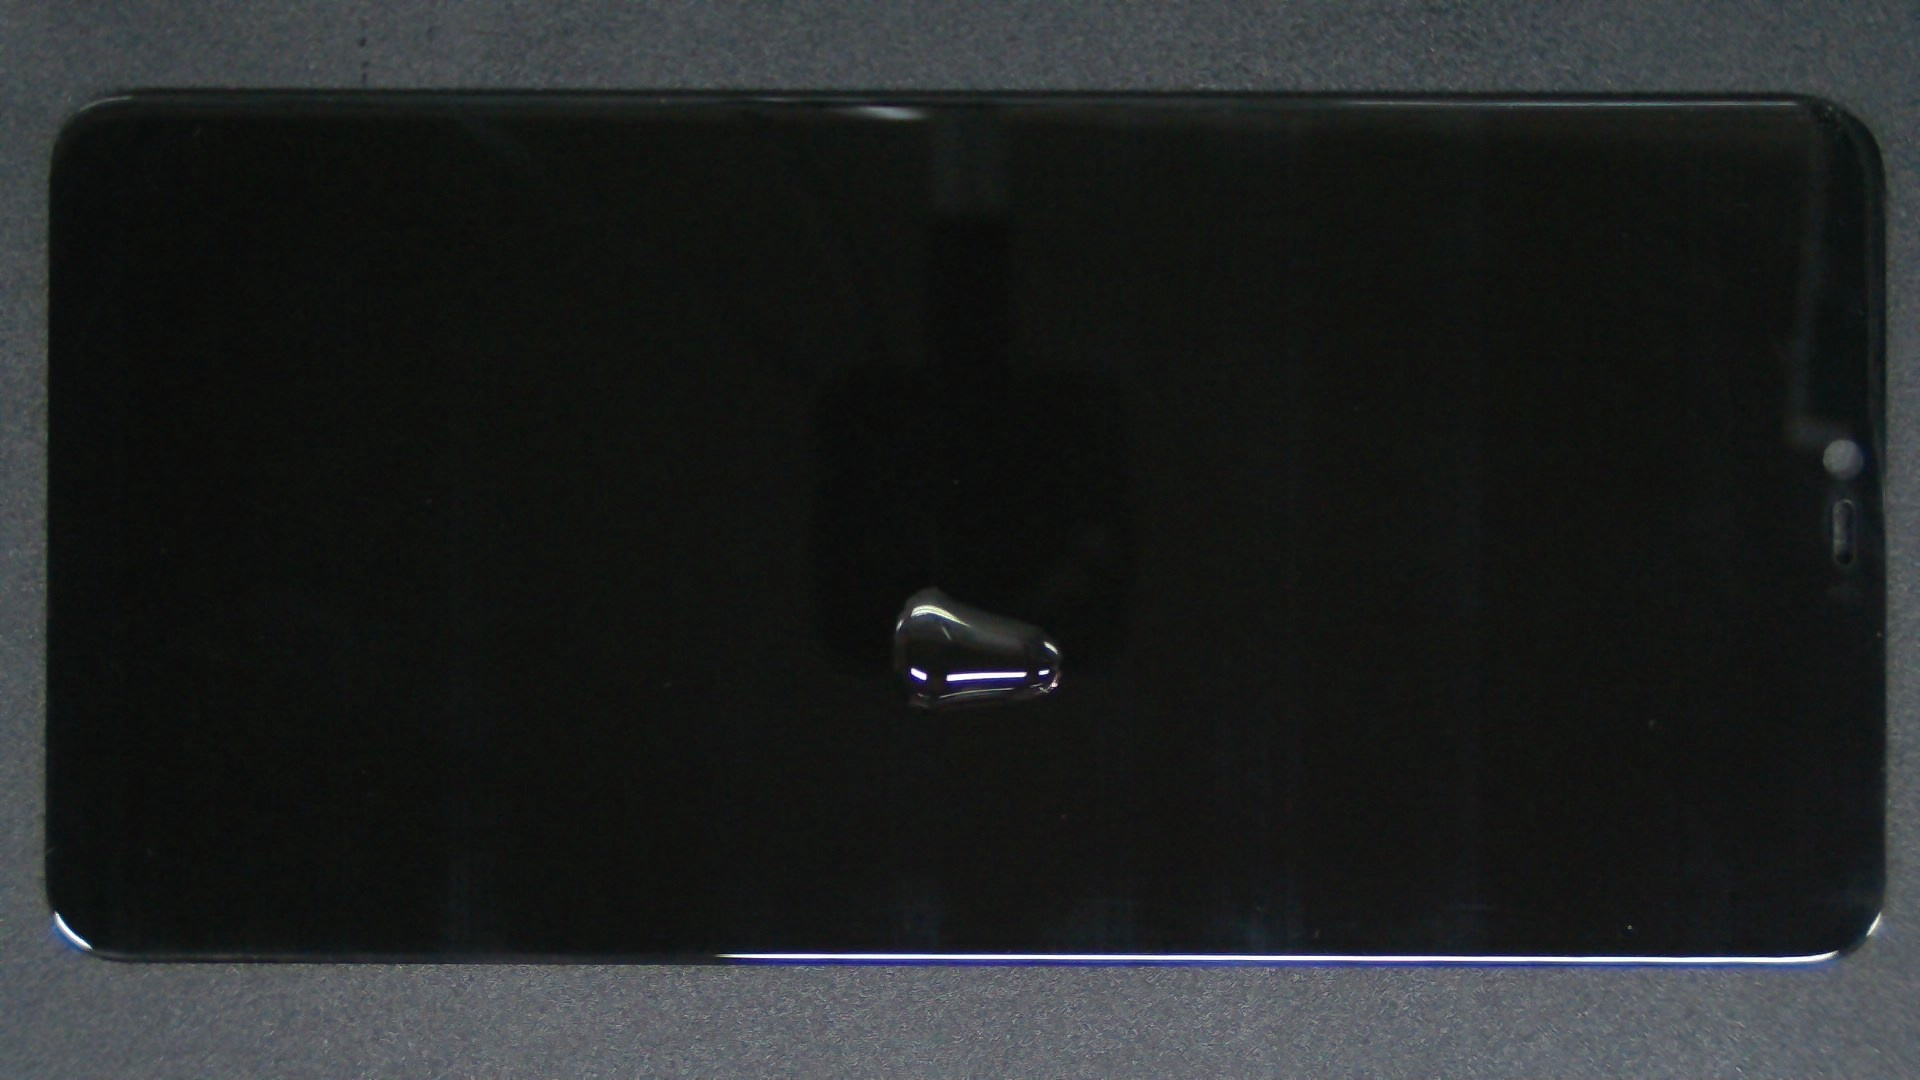oil: (463, 294, 1386, 882)
